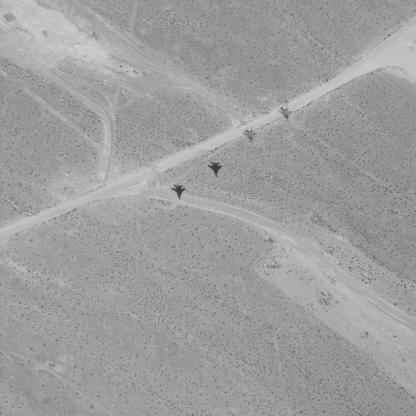F15: (243, 127, 259, 145), (279, 105, 294, 124)
